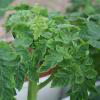Tomato leaf mosaic virus: (49, 65, 79, 89), (37, 50, 67, 74), (11, 21, 37, 40), (32, 38, 48, 67), (12, 64, 26, 92), (74, 41, 89, 59), (12, 37, 33, 49), (59, 30, 72, 44), (44, 39, 62, 49), (84, 69, 96, 80)
